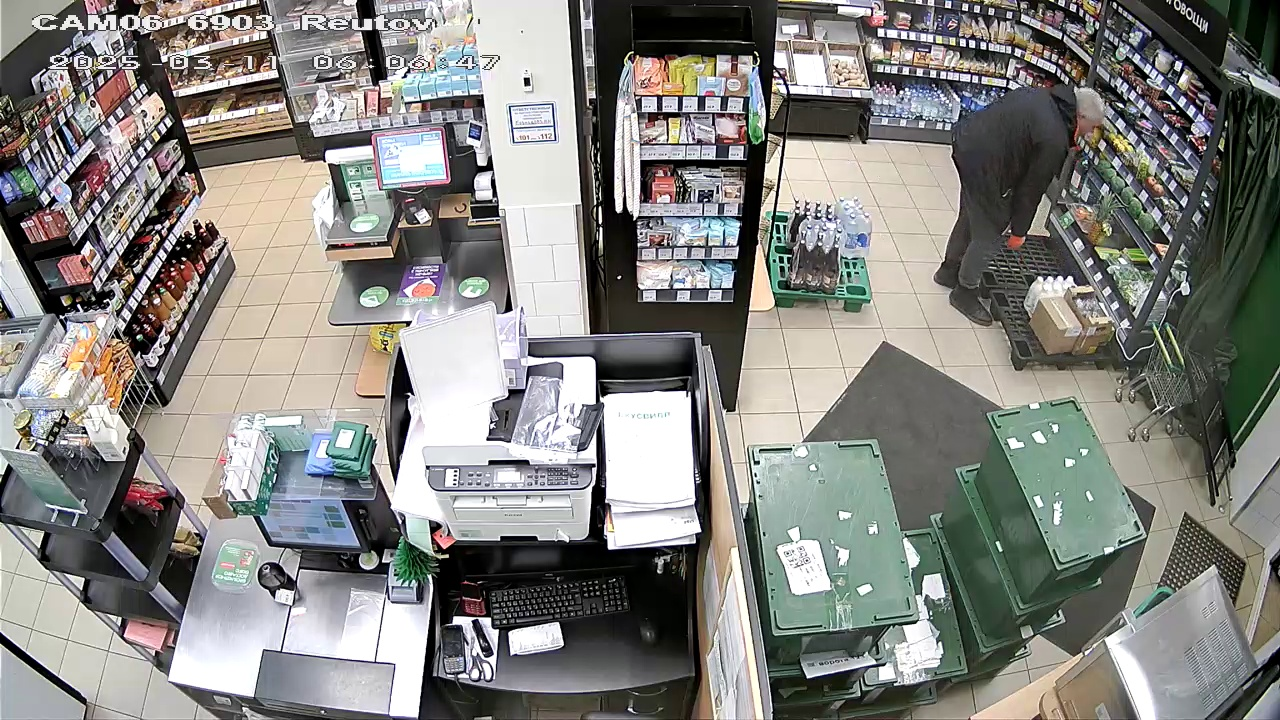Human: (929, 56, 1105, 324)
pallet: (981, 223, 1111, 351)
